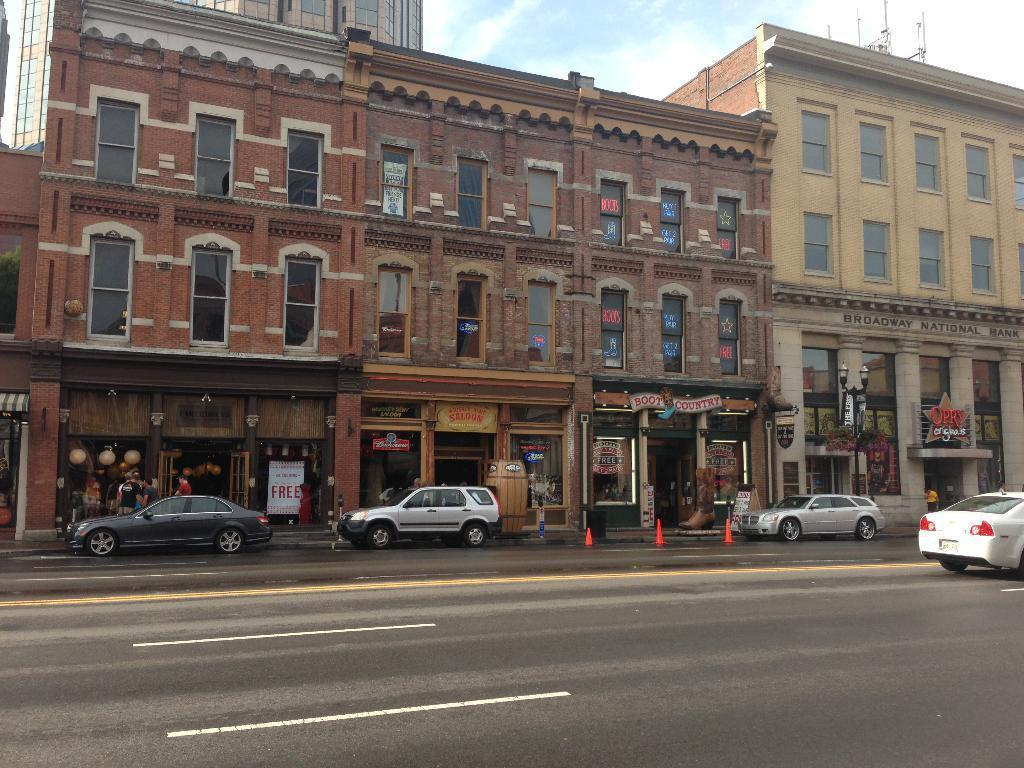bienso: (939, 538, 958, 550)
